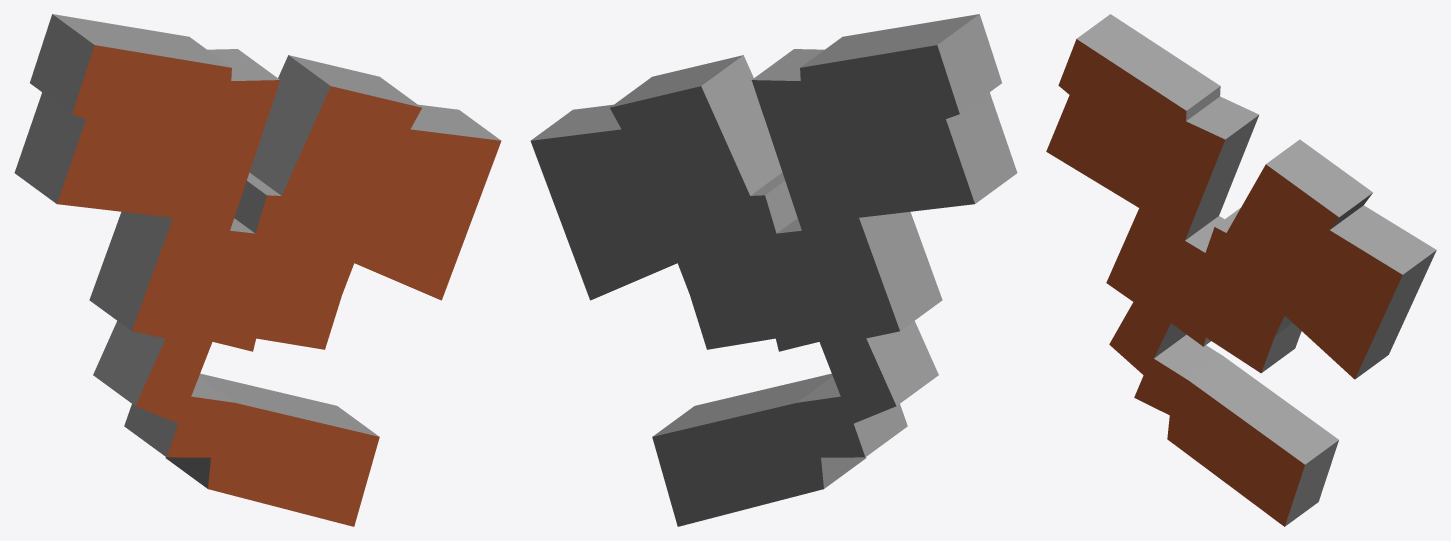
File: construction_5477_assumed_A_Casa_h6m.obj
3 views of the same model, side by side, from view 1: azimuth 30°, elevation 25°; view 2: azimuth 150°, elevation 25°; view 3: azimuth 330°, elevation 25° (orthographic). The views are drawn at different scales.
Parts seen in each view (by area): view 1: construction_5477_assumed_A_Casa; view 2: construction_5477_assumed_A_Casa; view 3: construction_5477_assumed_A_Casa.
Part boxes in pixels (x1,y1,x2,y2): construction_5477_assumed_A_Casa: [14, 14, 501, 526]; construction_5477_assumed_A_Casa: [530, 14, 1017, 526]; construction_5477_assumed_A_Casa: [1046, 14, 1436, 526].
Size of the model in its own units: 36.29 by 42.52 by 6.
